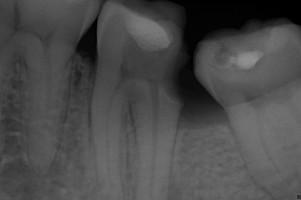Furcation Involvement: (167, 170, 185, 200)
